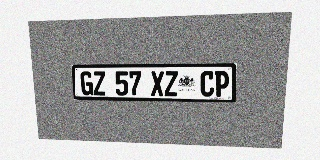5: (115, 71, 128, 96)
7: (128, 71, 142, 96)
C: (200, 71, 215, 97)
G: (80, 71, 93, 95)
P: (214, 71, 229, 97)
X: (151, 71, 164, 96)
Z: (164, 71, 178, 96), (93, 71, 106, 95)
